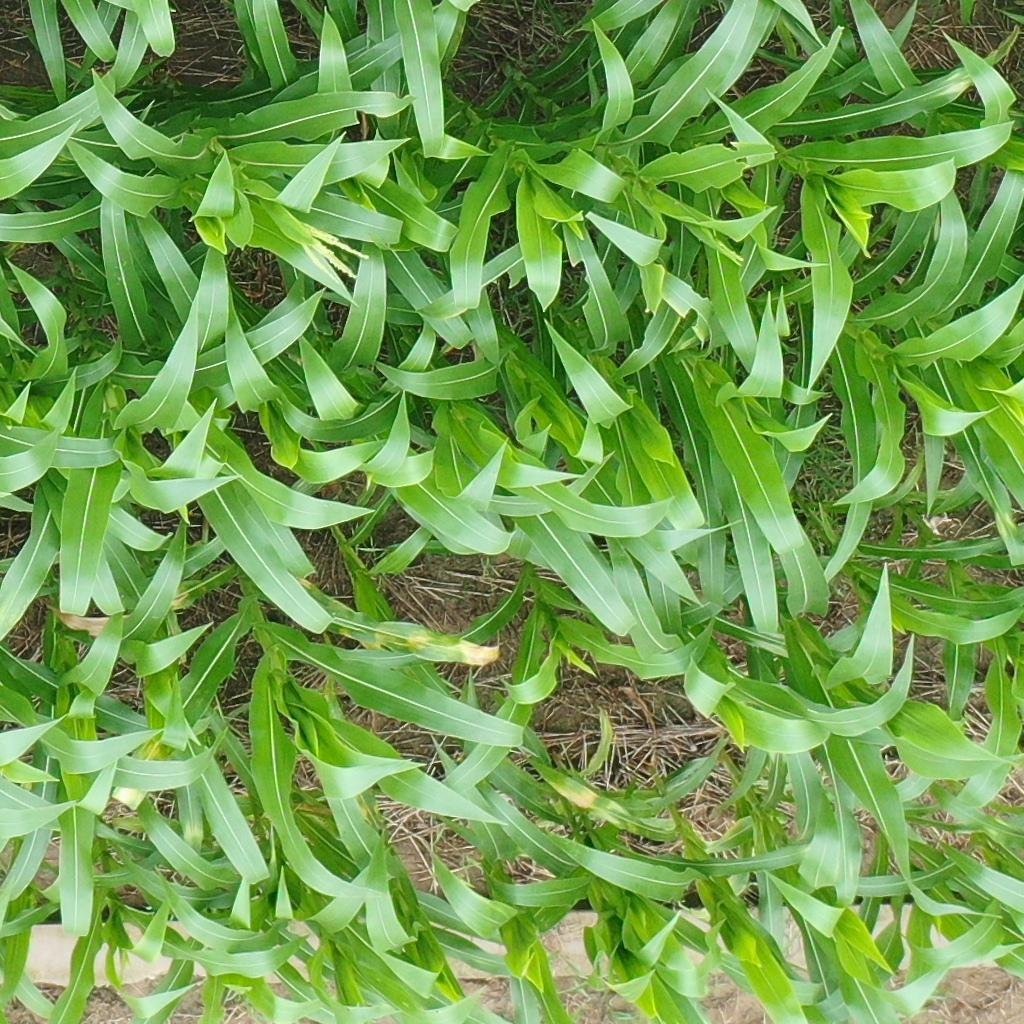Tassel: (290, 209, 374, 290), (711, 239, 747, 267)
